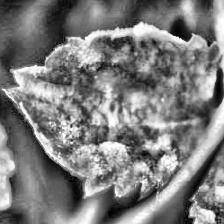Powdery Mildew Leaf: (0, 22, 222, 199), (188, 81, 224, 224)
